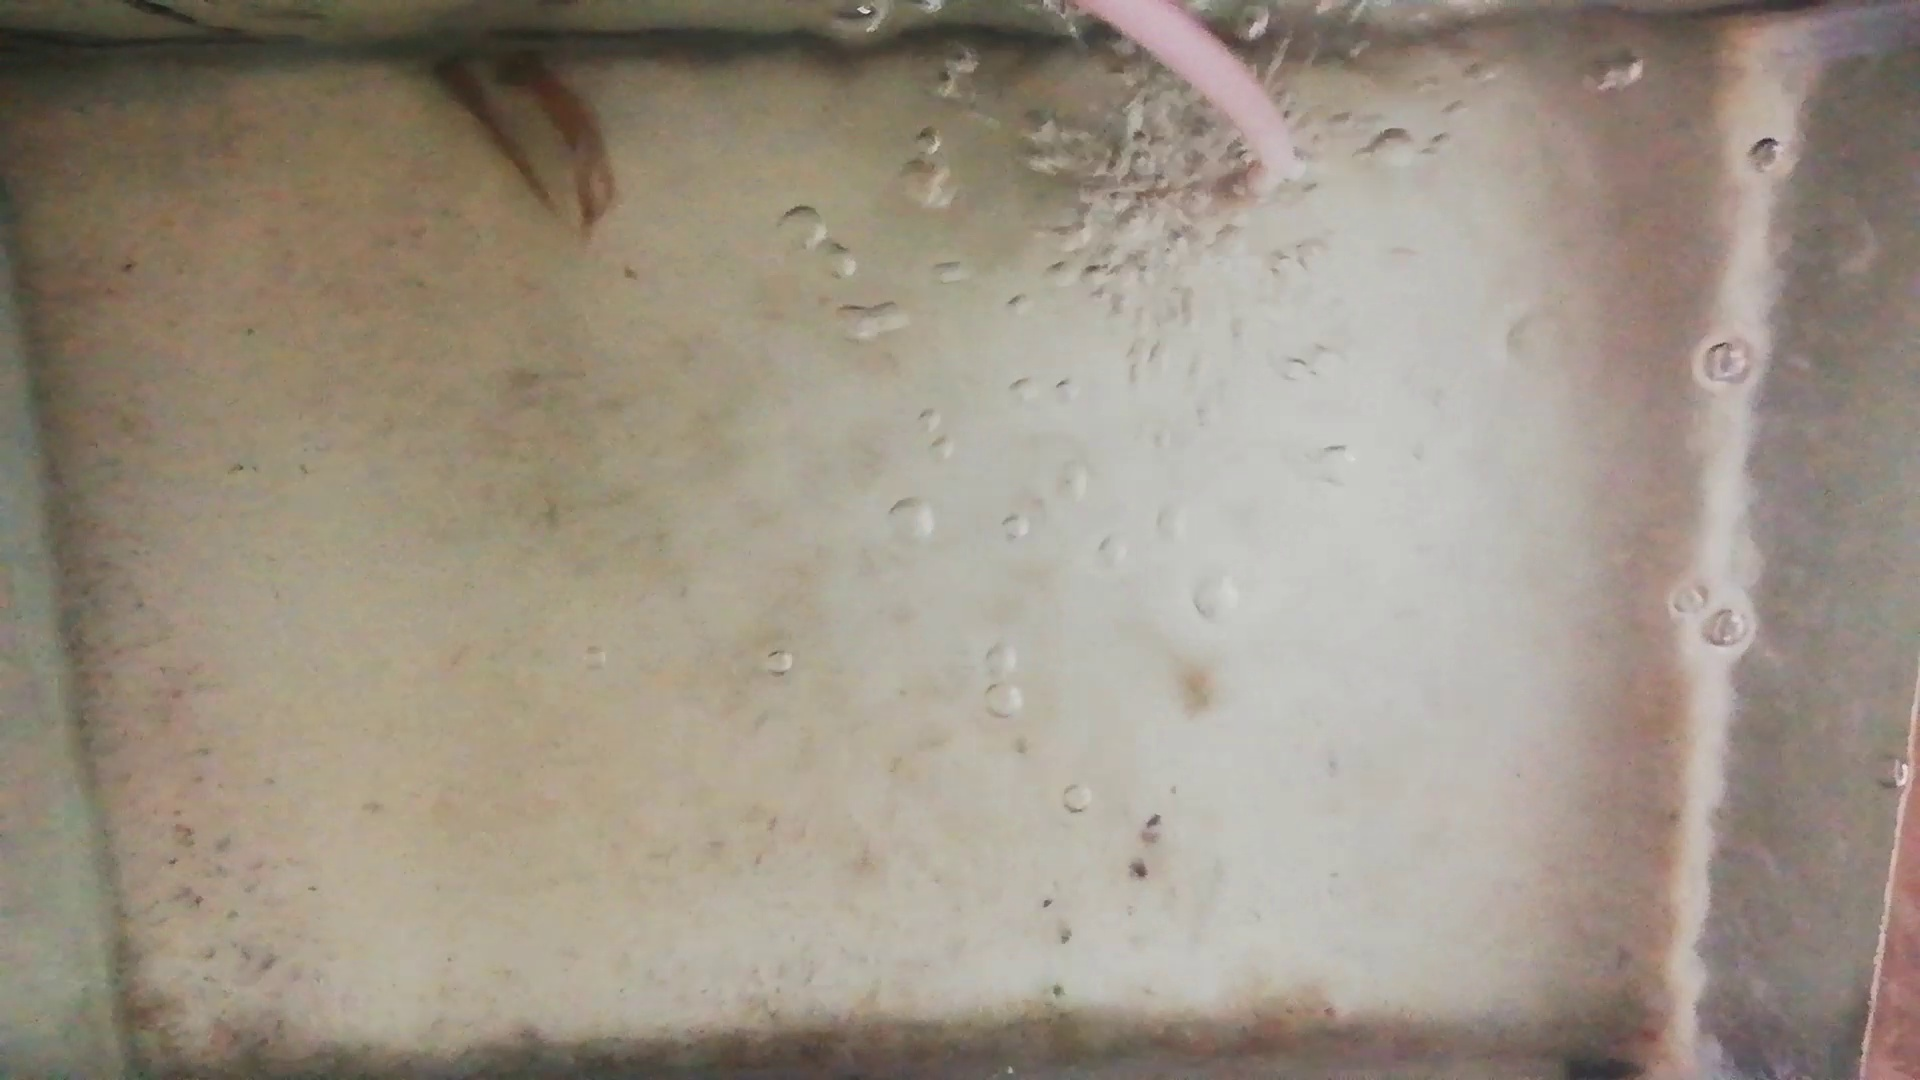fish: (502, 44, 615, 224), (419, 42, 543, 203)
